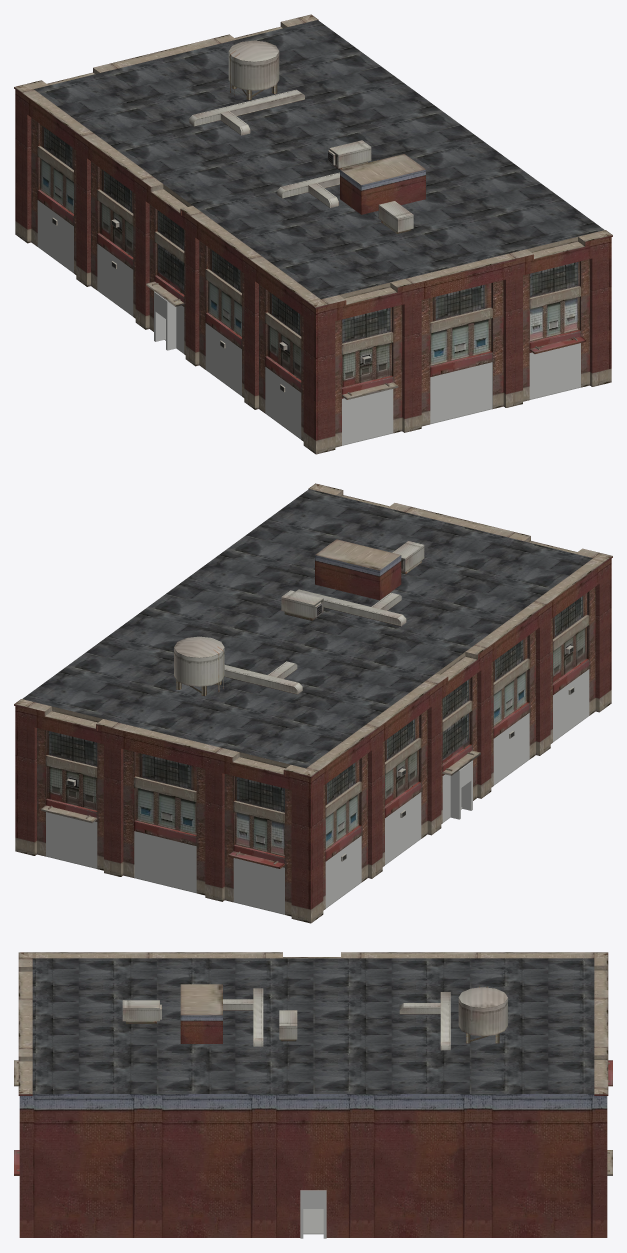
Rendered from ind-building-1.access-v8.lod0.glb.
3 renders of one model, top to bottom at view 1: azimuth 30°, elevation 25°; view 2: azimuth 150°, elevation 25°; view 3: azimuth 270°, elevation 25°, orthographic. The views are drawn at different scales.
Parts seen in each view (by area): view 1: Industrial_Building_1_Industrial_Facade_Flr_1_0, Industrial_Building_1_Industrial_Roof_1_0, Walkable floors and stairs; view 2: Industrial_Building_1_Industrial_Facade_Flr_1_0, Industrial_Building_1_Industrial_Roof_1_0, Walkable floors and stairs; view 3: Industrial_Building_1_Industrial_Facade_Flr_1_0, Industrial_Building_1_Industrial_Roof_1_0, Walkable floors and stairs (×2).
Boxes of the visible parts, <box> form: Industrial_Building_1_Industrial_Facade_Flr_1_0: <box>14,14,612,454</box>; Industrial_Building_1_Industrial_Roof_1_0: <box>34,20,604,299</box>; Walkable floors and stairs: <box>37,200,580,444</box>; Industrial_Building_1_Industrial_Facade_Flr_1_0: <box>14,483,612,923</box>; Industrial_Building_1_Industrial_Roof_1_0: <box>22,489,592,768</box>; Walkable floors and stairs: <box>46,669,589,913</box>; Industrial_Building_1_Industrial_Facade_Flr_1_0: <box>14,952,612,1237</box>; Industrial_Building_1_Industrial_Roof_1_0: <box>32,958,594,1093</box>; Walkable floors and stairs (×2): <box>300,1190,326,1238</box>.
Size of the model in its own units: 27.02 by 16.63 by 47.54.
4 materials, 2 textured.
